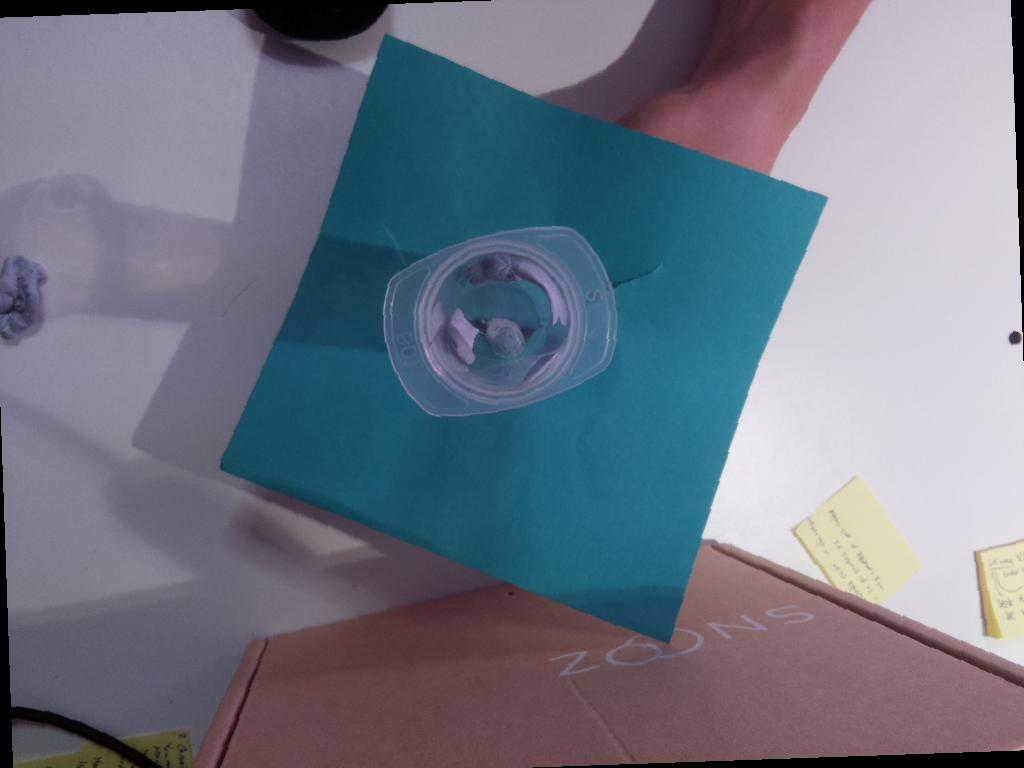dirty: (384, 226, 617, 416)
